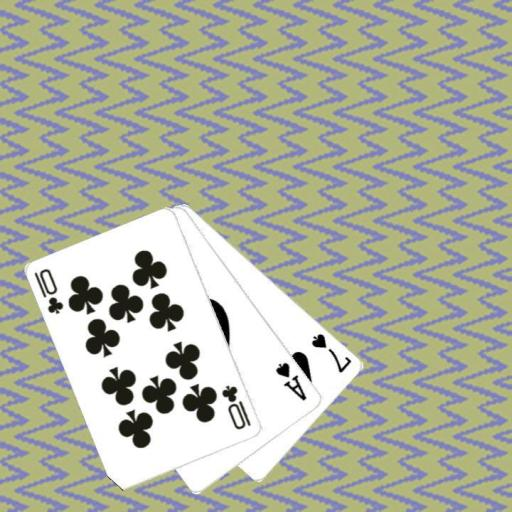card-corner: (309, 330, 354, 375), (32, 265, 66, 316), (219, 382, 253, 432), (272, 358, 309, 402)
